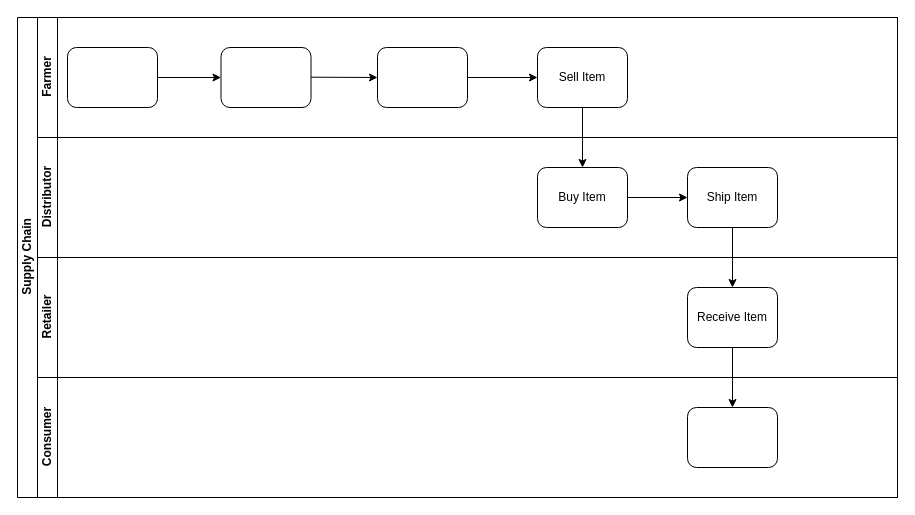
Some shapes in this 915 by 515 pixel diagram are drawn without their labels. The shapes that lost their labels are listed below. From the top down, each one's centre as x and y in pixels, then its label:
At pixel 112 77: "Harvest Item".
At pixel 265 77: "Process Item".
At pixel 422 77: "Pack Item".
At pixel 732 437: "Purchase Item".
